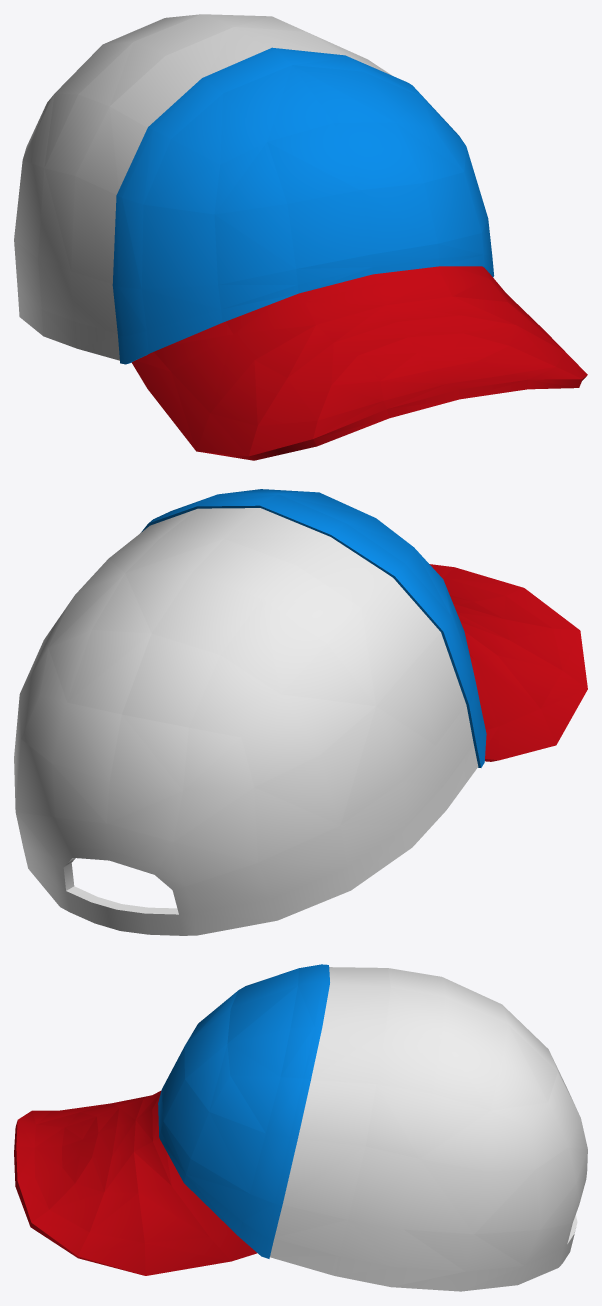
3 views of the same model, one above another, from view 1: azimuth 30°, elevation 25°; view 2: azimuth 150°, elevation 25°; view 3: azimuth 270°, elevation 25° (orthographic). The views are drawn at different scales.
Parts seen in each view (by area): view 1: model_21; view 2: model_21; view 3: model_21.
Part boxes in pixels (x1,y1,x2,y2): model_21: (14,14,587,460); model_21: (14,489,587,935); model_21: (14,964,587,1291).
Bounding box in the file's own units: 0.7801 × 0.641 × 1.27.
